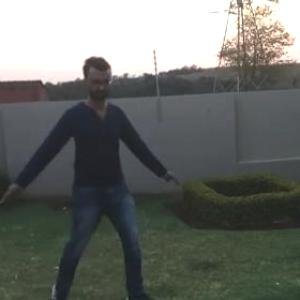land: (34, 73, 168, 277)
